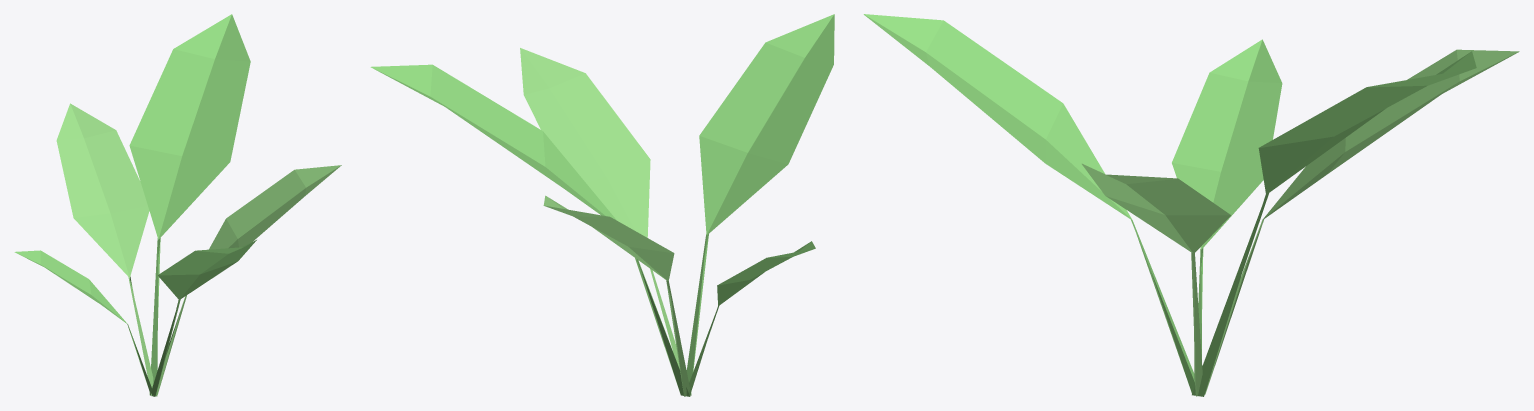
The model's file is Plant_j_TwoS_10.fbx.
3 views of the same model, side by side, from view 1: azimuth 30°, elevation 25°; view 2: azimuth 150°, elevation 25°; view 3: azimuth 270°, elevation 25° (orthographic). The views are drawn at different scales.
Parts seen in each view (by area): view 1: Plant_j_TwoS_10; view 2: Plant_j_TwoS_10; view 3: Plant_j_TwoS_10.
Part boxes in pixels (bbox=[...]): Plant_j_TwoS_10: bbox=[14, 14, 341, 396]; Plant_j_TwoS_10: bbox=[370, 14, 834, 396]; Plant_j_TwoS_10: bbox=[863, 14, 1519, 396].
Bounding box in the file's own units: 31.74 × 29.89 × 38.94.
